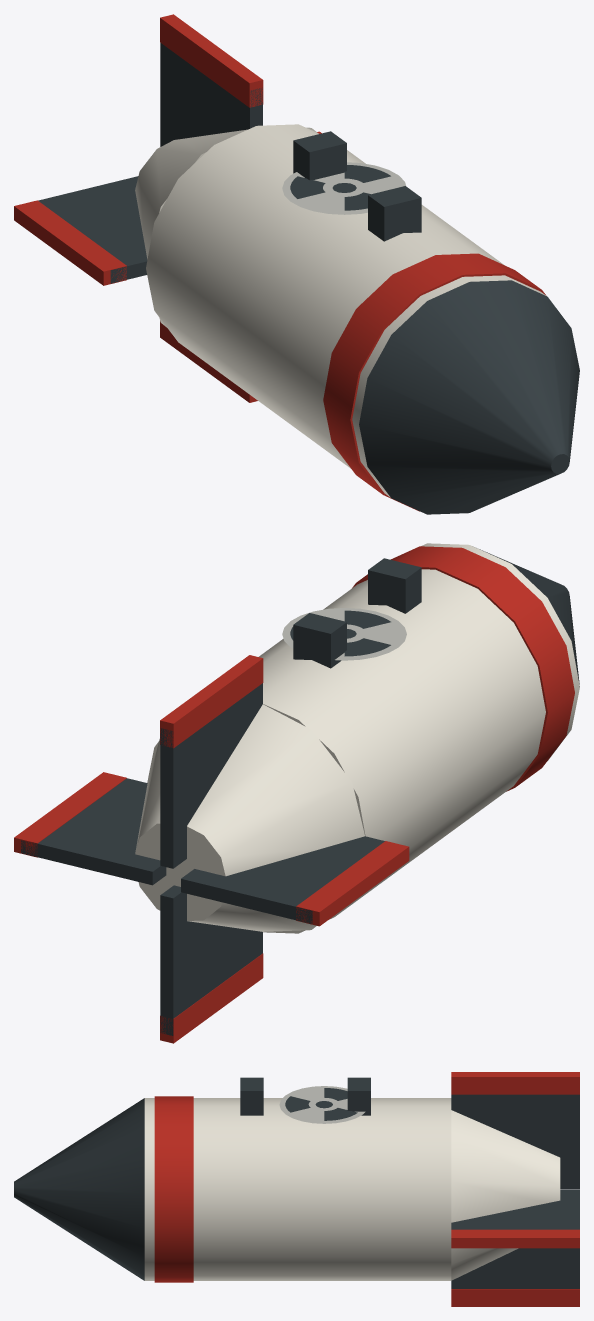
The picture shows the model from 3 angles, top to bottom: view 1: azimuth 30°, elevation 25°; view 2: azimuth 150°, elevation 25°; view 3: azimuth 270°, elevation 25°; orthographic projection. The views are drawn at different scales.
Parts seen in each view (by area): view 1: nuclear-bomb-fleet-armor, nuclear-bomb-fleet-machine, nuclear-bomb-fleet-red, bomb-fin-1-fleet-machine, bomb-fin-2-fleet-machine, bomb-fin-1-fleet-red, bomb-fin-2-fleet-red, nuclear-bomb-fleet-edge, bomb-fin-3-fleet-red; view 2: nuclear-bomb-fleet-armor, nuclear-bomb-fleet-red, bomb-fin-3-fleet-machine, bomb-fin-1-fleet-machine, nuclear-bomb-fleet-machine, bomb-fin-0-fleet-machine, bomb-fin-2-fleet-machine, bomb-fin-1-fleet-red, bomb-fin-2-fleet-red, bomb-fin-3-fleet-red, bomb-fin-0-fleet-red, nuclear-bomb-fleet-edge; view 3: nuclear-bomb-fleet-armor, nuclear-bomb-fleet-machine, nuclear-bomb-fleet-red, bomb-fin-1-fleet-machine, bomb-fin-3-fleet-machine, bomb-fin-1-fleet-red, bomb-fin-0-fleet-machine, bomb-fin-0-fleet-red, bomb-fin-3-fleet-red, nuclear-bomb-fleet-edge.
Boxes of the visible parts, x1=… form: nuclear-bomb-fleet-armor: x1=135, y1=124, x2=545, y2=497; nuclear-bomb-fleet-machine: x1=290, y1=131, x2=579, y2=514; nuclear-bomb-fleet-red: x1=323, y1=253, x2=546, y2=511; bomb-fin-1-fleet-machine: x1=160, y1=43, x2=262, y2=146; bomb-fin-2-fleet-machine: x1=38, y1=176, x2=147, y2=283; bomb-fin-1-fleet-red: x1=160, y1=14, x2=263, y2=107; bomb-fin-2-fleet-red: x1=14, y1=200, x2=126, y2=285; nuclear-bomb-fleet-edge: x1=282, y1=162, x2=405, y2=214; bomb-fin-3-fleet-red: x1=160, y1=321, x2=257, y2=402; nuclear-bomb-fleet-armor: x1=135, y1=543, x2=579, y2=933; nuclear-bomb-fleet-red: x1=352, y1=546, x2=574, y2=791; bomb-fin-3-fleet-machine: x1=160, y1=885, x2=262, y2=1035; bomb-fin-1-fleet-machine: x1=160, y1=683, x2=262, y2=868; nuclear-bomb-fleet-machine: x1=290, y1=549, x2=579, y2=686; bomb-fin-0-fleet-machine: x1=21, y1=778, x2=166, y2=885; bomb-fin-2-fleet-machine: x1=181, y1=836, x2=384, y2=924; bomb-fin-1-fleet-red: x1=160, y1=655, x2=263, y2=748; bomb-fin-2-fleet-red: x1=296, y1=841, x2=409, y2=926; bomb-fin-3-fleet-red: x1=160, y1=953, x2=263, y2=1043; bomb-fin-0-fleet-red: x1=14, y1=772, x2=126, y2=857; nuclear-bomb-fleet-edge: x1=282, y1=608, x2=406, y2=660; nuclear-bomb-fleet-armor: x1=144, y1=1098, x2=560, y2=1280; nuclear-bomb-fleet-machine: x1=14, y1=1077, x2=370, y2=1280; nuclear-bomb-fleet-red: x1=154, y1=1096, x2=193, y2=1282; bomb-fin-1-fleet-machine: x1=451, y1=1094, x2=579, y2=1180; bomb-fin-3-fleet-machine: x1=451, y1=1248, x2=579, y2=1288; bomb-fin-1-fleet-red: x1=451, y1=1072, x2=579, y2=1094; bomb-fin-0-fleet-machine: x1=451, y1=1189, x2=579, y2=1229; bomb-fin-0-fleet-red: x1=451, y1=1229, x2=579, y2=1248; bomb-fin-3-fleet-red: x1=451, y1=1289, x2=579, y2=1306; nuclear-bomb-fleet-edge: x1=279, y1=1086, x2=365, y2=1123.
Size of the model in its own units: 15.1 by 15.1 by 33.68.
